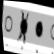correct: (32, 17, 46, 42)
not correct: (13, 7, 34, 46)
